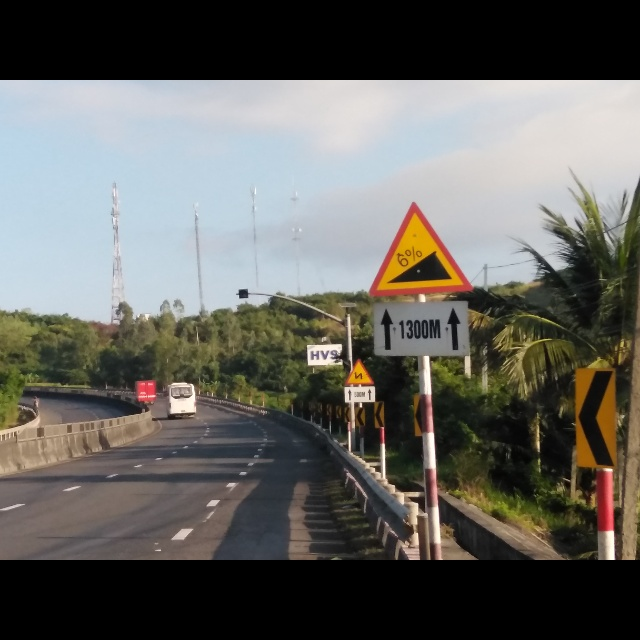Dốc lên nguy hiểm: (368, 204, 474, 299)
Ngoặt nguy hiểm liên tiếp bên phải: (344, 358, 377, 387)
